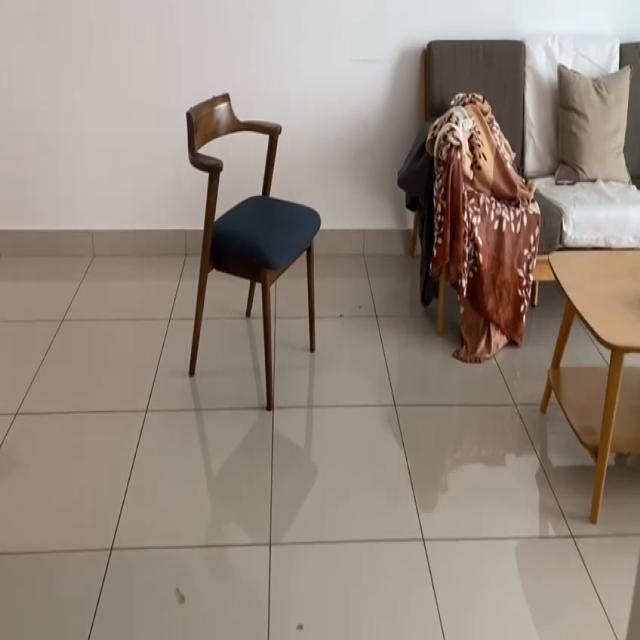Chair: (184, 86, 318, 414)
